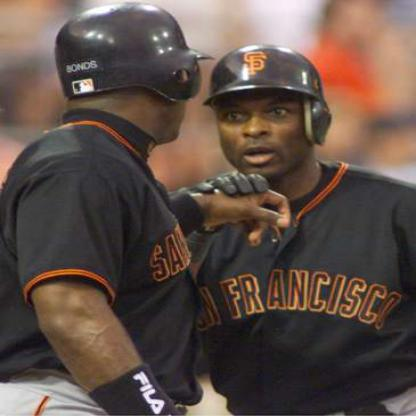face: (212, 49, 315, 181)
